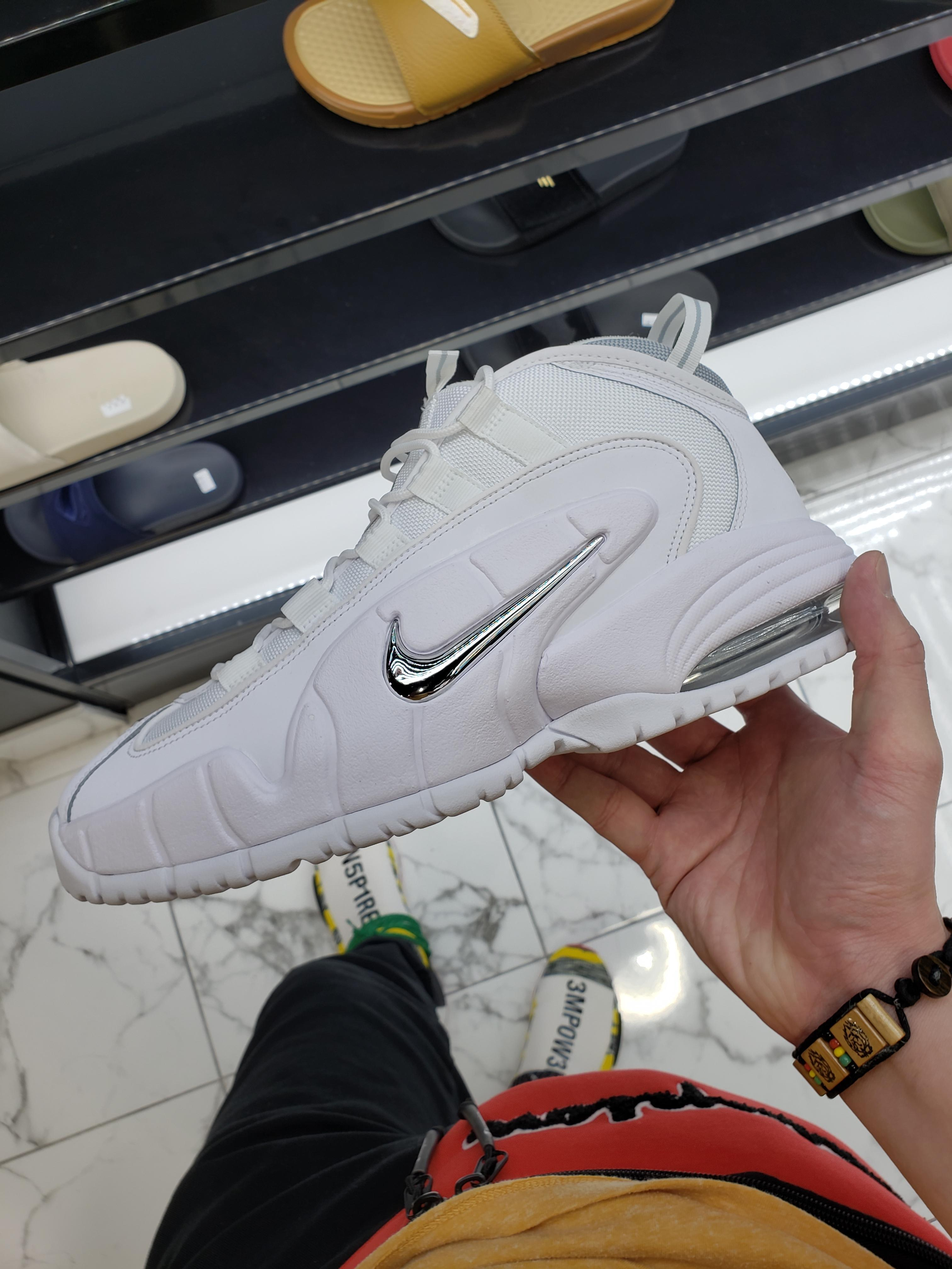sneaker: (42, 301, 885, 906)
